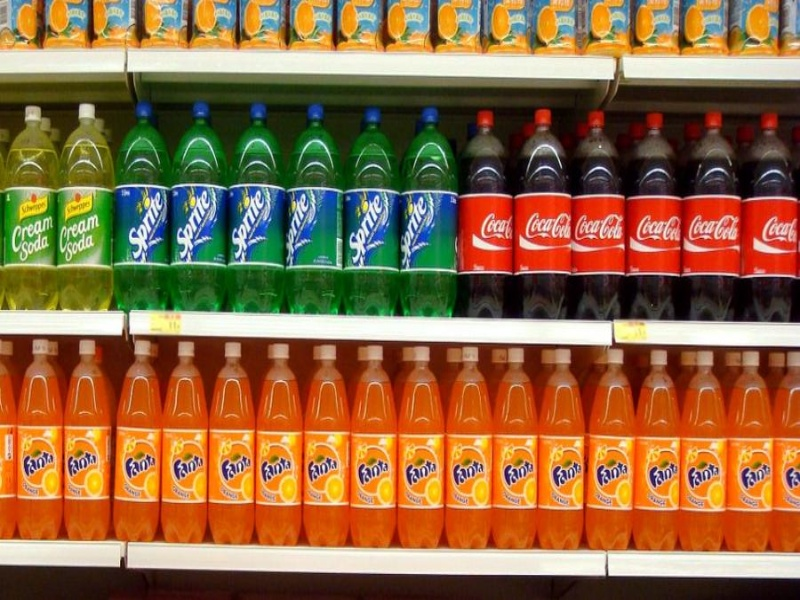Plastic bottle: (440, 94, 520, 342), (498, 95, 582, 325), (21, 95, 112, 304), (384, 103, 462, 329), (556, 87, 633, 312), (102, 95, 180, 310), (726, 96, 800, 314), (665, 100, 740, 312), (268, 100, 341, 312), (615, 106, 685, 326), (325, 106, 395, 320), (164, 105, 231, 297)
